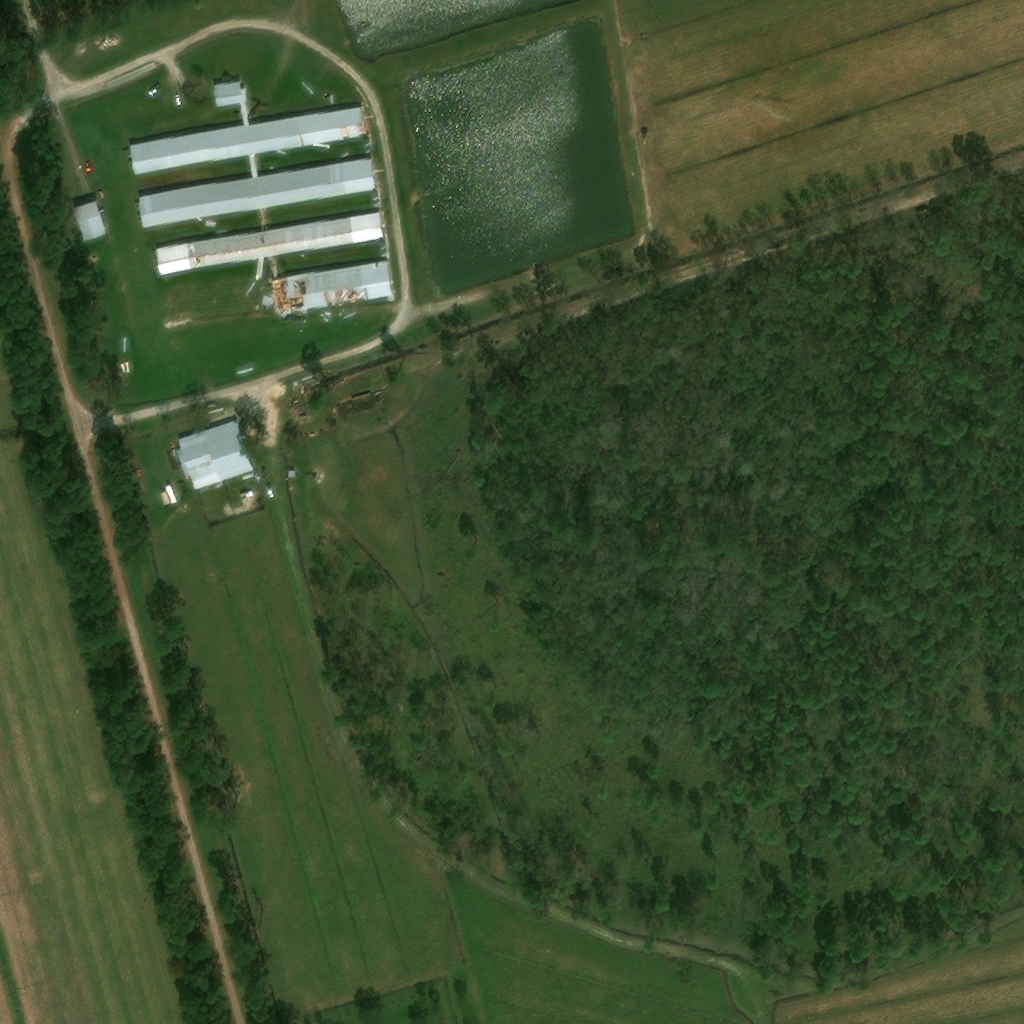destroyed: (266, 258, 279, 280), (256, 210, 268, 233)
major_damage: (128, 109, 367, 175), (271, 263, 394, 315)
minor_damage: (153, 215, 384, 275), (248, 156, 257, 180)
no_damage: (137, 160, 375, 229), (178, 423, 256, 494), (76, 202, 108, 242), (214, 82, 246, 110), (240, 104, 249, 127)
